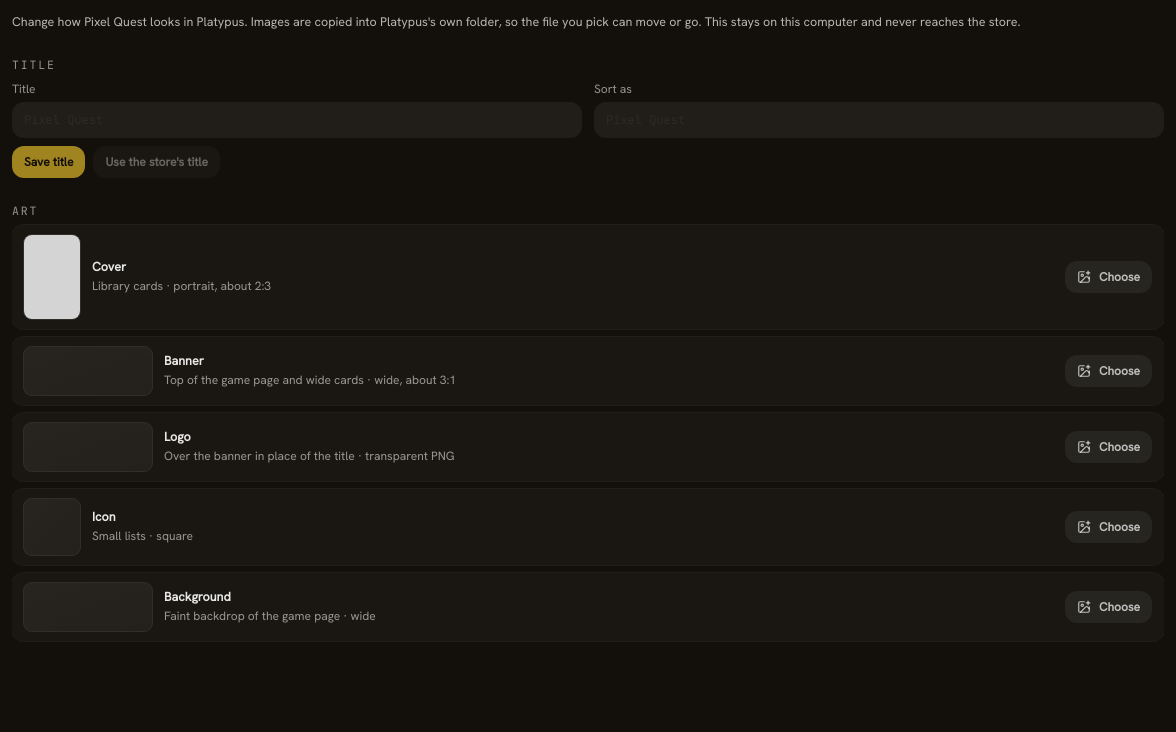
Test case: CustomizationTab › shows the refusal of a bad image and keeps the form as it was
Expected: the field named "Custom title" is enabled, x1=12 y1=102 x2=582 y2=138
Click the button with aria-label "Choose logo image" at (1108, 447), box x1=1065 y1=431 x2=1152 y2=463
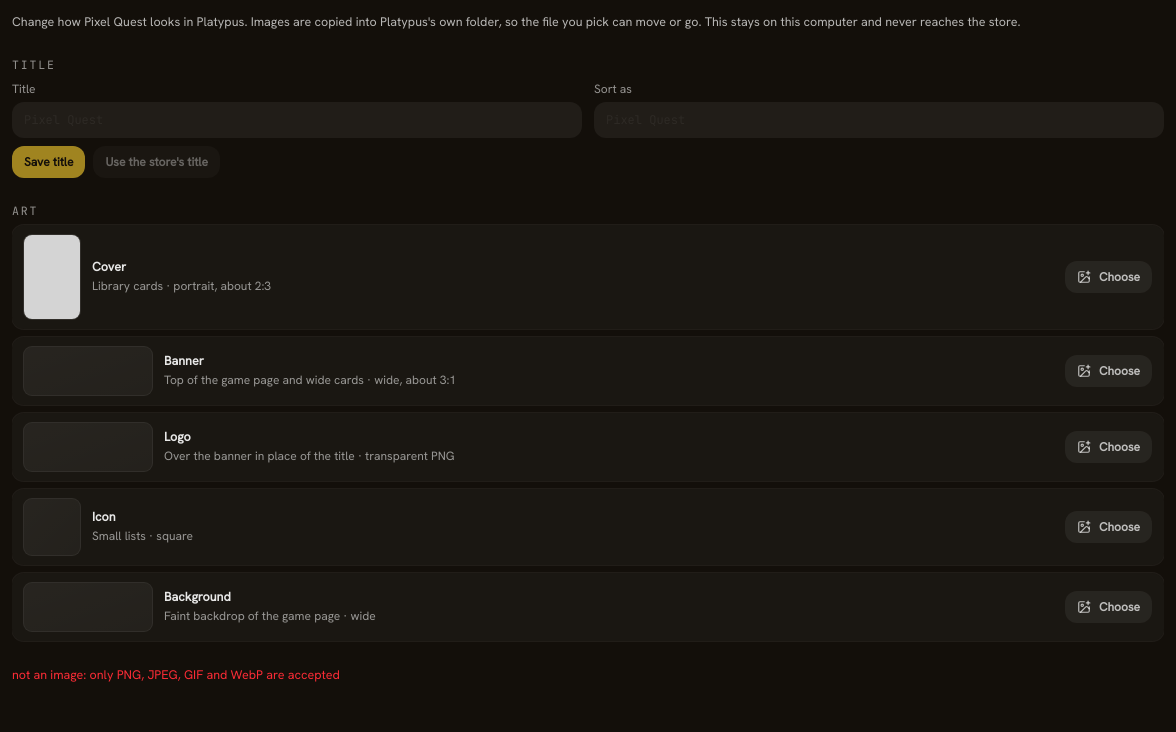
Expected: the message shows "not an image", x1=12 y1=666 x2=340 y2=683
